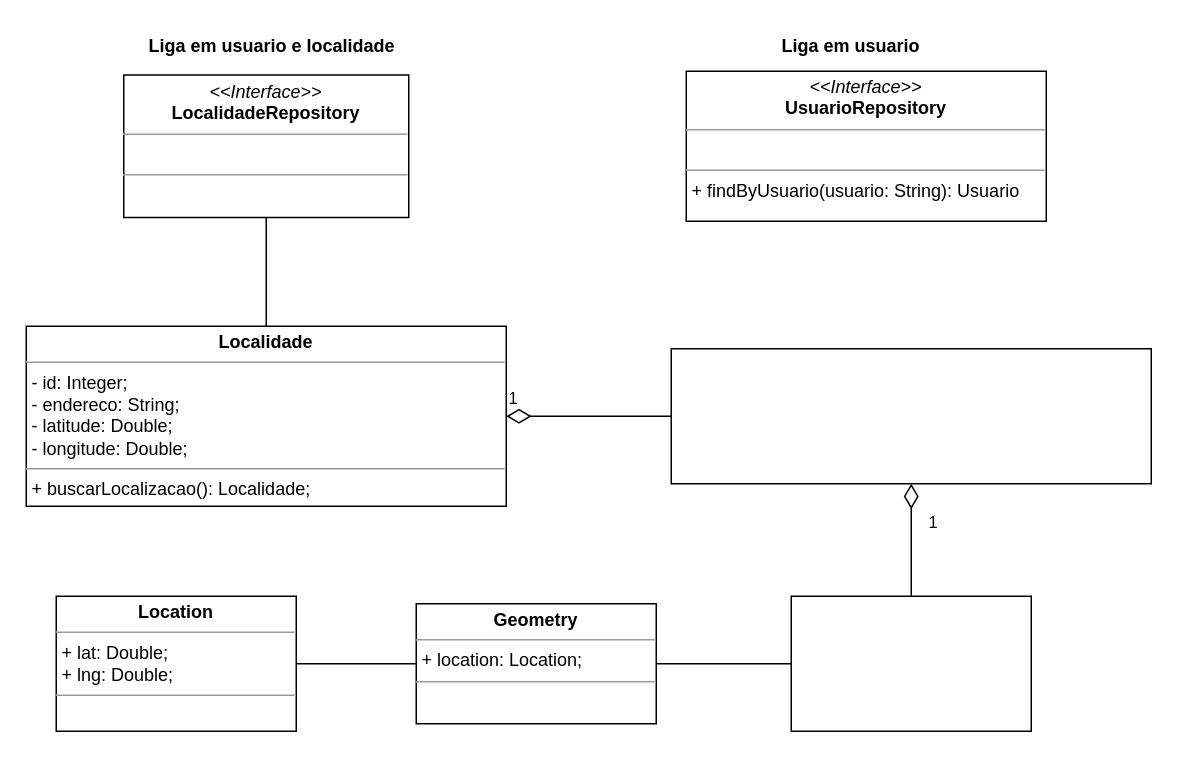
This 1178x758 diagram has some shape labels left out. Here are the shapes that lost their labels. From the top down, the centre of each, then its label:
the point at 910,415: LocalidadeGoogle - status: String; + chamarApiGoogle(): LocalidadeGoogle;
the point at 910,663: Result - formated_address: String; + geometry: Geometry; + toString(): String;
